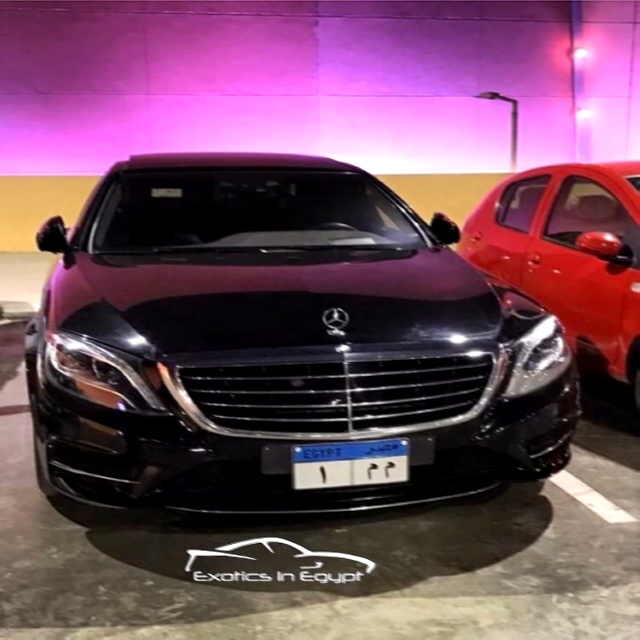License Plate: (290, 436, 412, 491)
